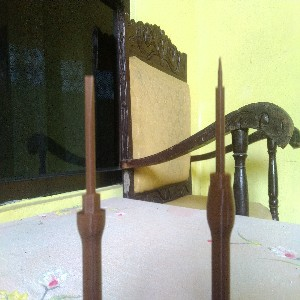obeng: (76, 73, 106, 300)
solder: (207, 55, 236, 300)
